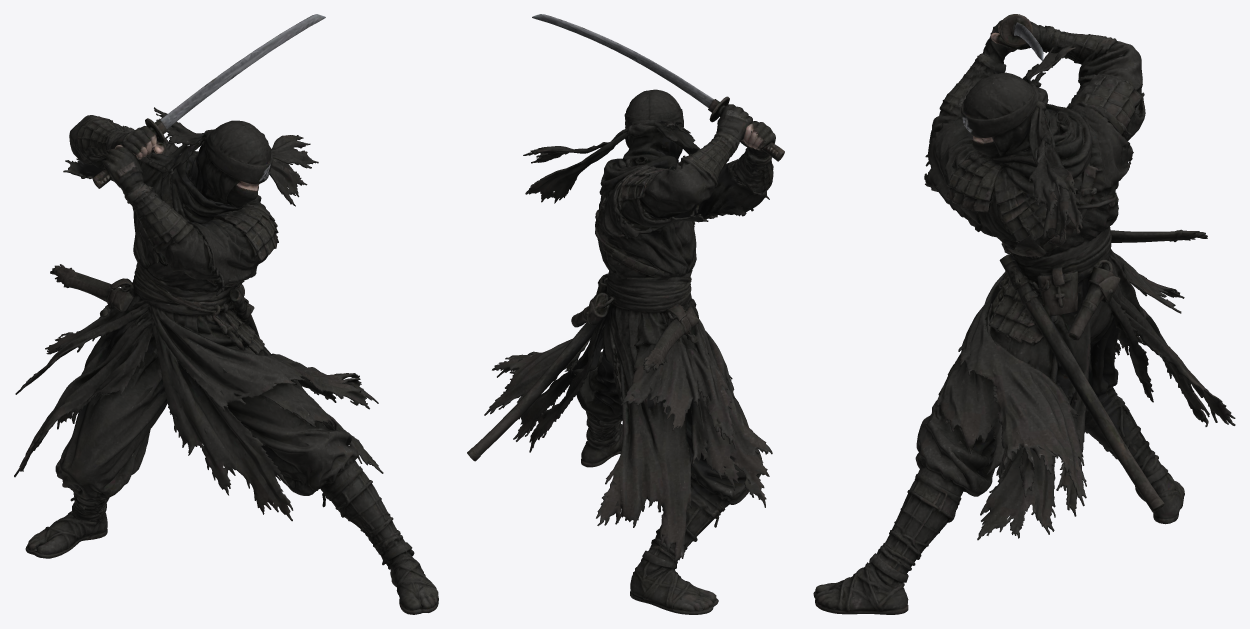
The model's file is shadowblade.glb.
3 views of the same model, side by side, from view 1: azimuth 30°, elevation 25°; view 2: azimuth 150°, elevation 25°; view 3: azimuth 270°, elevation 25° (orthographic). The views are drawn at different scales.
Visible parts, largest first — view 1: Mesh_0; view 2: Mesh_0; view 3: Mesh_0.
Part boxes in pixels (<box>): Mesh_0: <box>14,14,438,614</box>; Mesh_0: <box>467,14,784,614</box>; Mesh_0: <box>813,14,1235,614</box>.
Bounding box in the file's own units: 1.22 × 1.9 × 1.31.
1 material, 1 textured.
